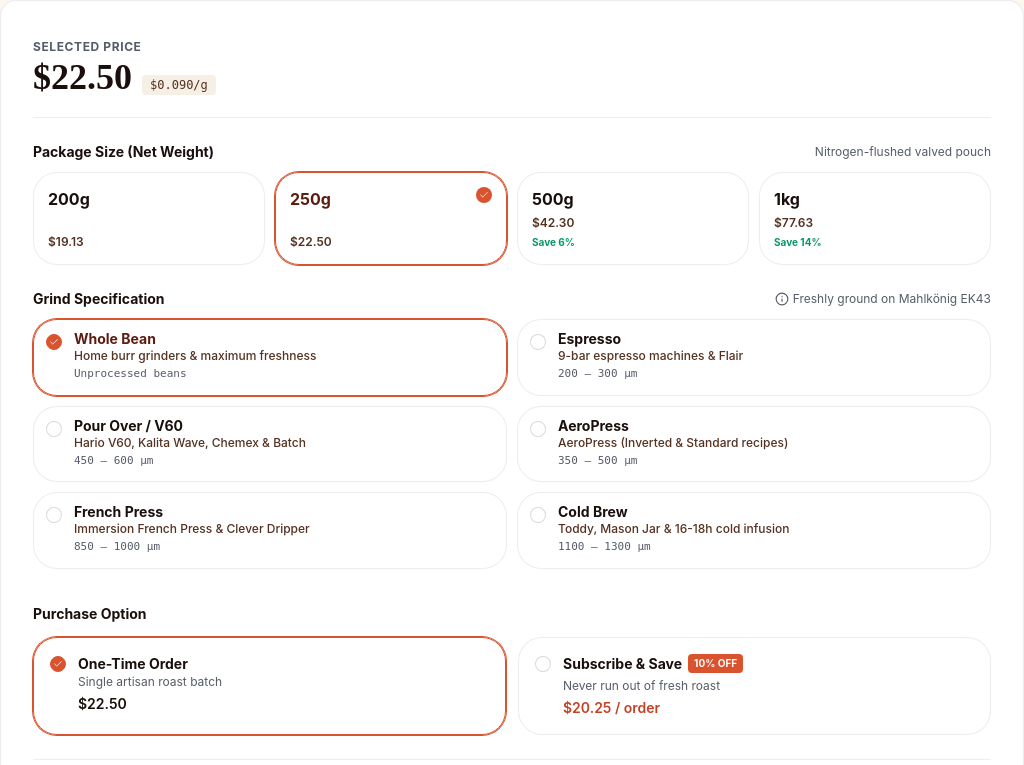
Test: Milestone 3: Product Detail & Brew Guide Components Verification › VariantSelector Component › toggles subscription mode and applies 10% discount badge and frequency choices
The image size is (1024, 765).
Step 1. Click the button "Subscribe & Save" → (623, 663), box left=518, top=636, right=991, bottom=734
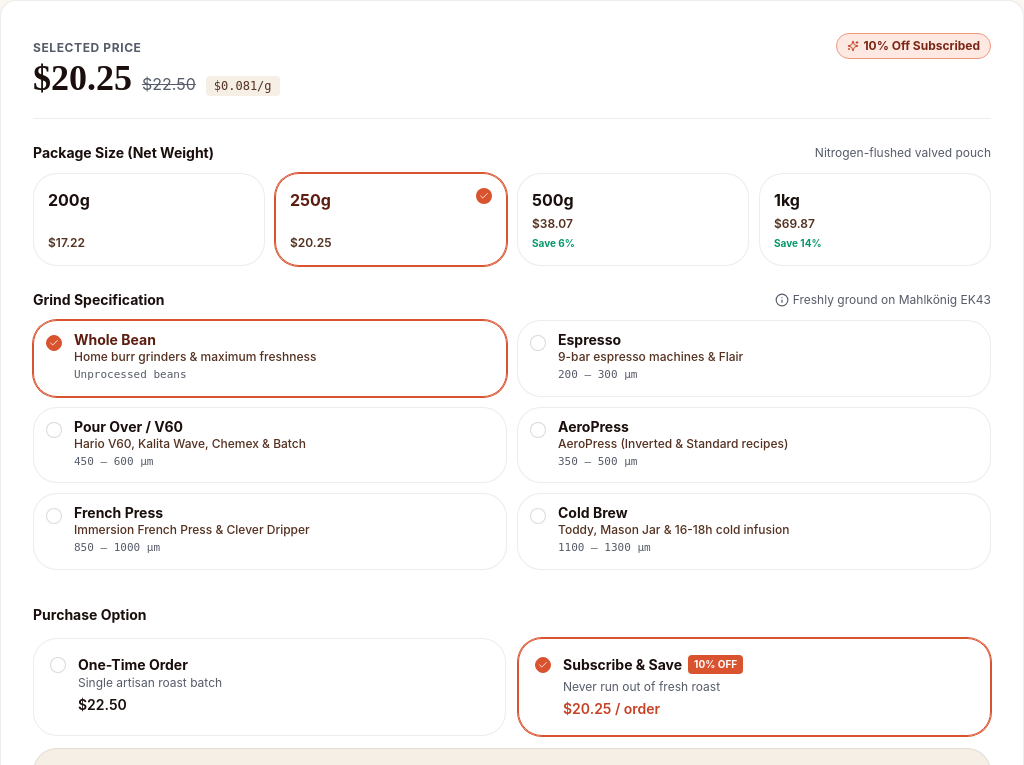
Expected: the text "10% Off Subscribed" is shown, left=836, top=33, right=991, bottom=59
Expected: the text "$20.25" in the row of "0.081" is shown, left=33, top=58, right=132, bottom=98
